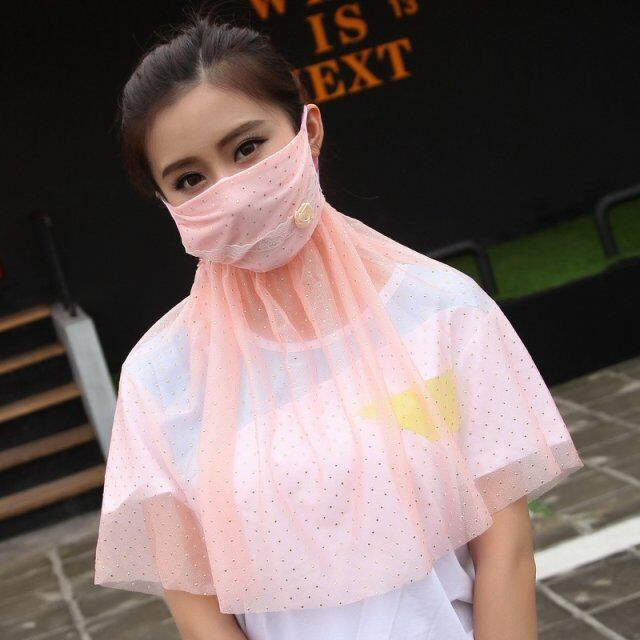face_mask: (147, 78, 306, 262)
